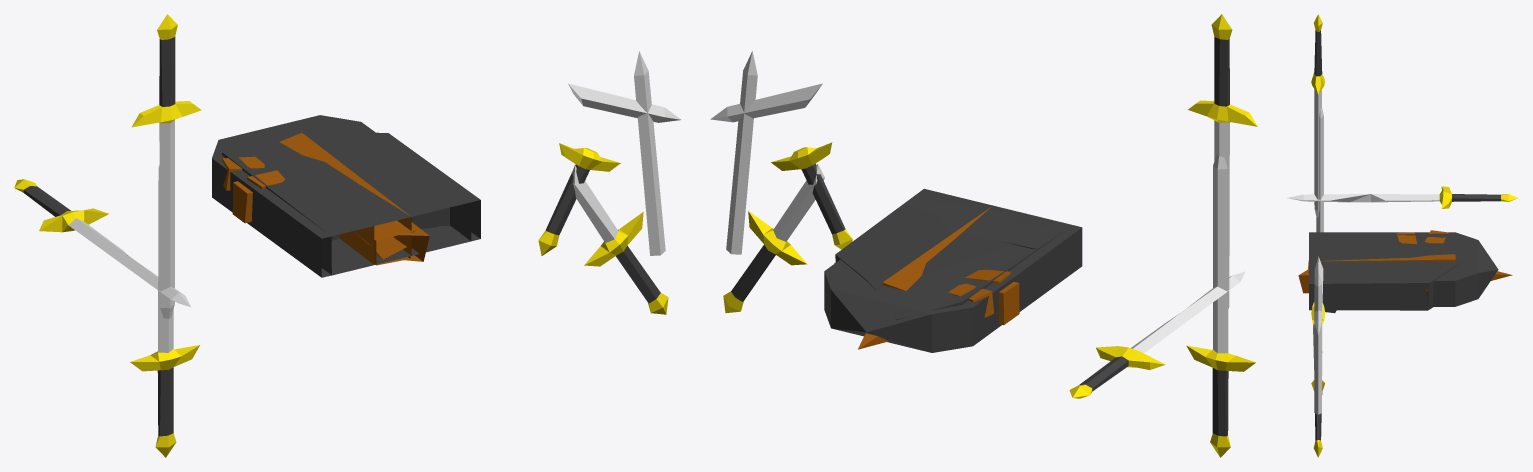
3 renders of one model, left to right at view 1: azimuth 30°, elevation 25°; view 2: azimuth 150°, elevation 25°; view 3: azimuth 270°, elevation 25°, orthographic. The views are drawn at different scales.
Parts seen in each view (by area): view 1: Stone Grave Broke, Stone Grave, Broke Sword 5, Broke Sword 4, Broke Sword 3, Stone Grave Broke.001, Broke Sword 1, Broke Sword 2, Stone Cross, Wood Cross, Wood Cross 2, Wood Cross 1; view 2: Stone Grave, Stone Grave Broke, Broke Sword 1, Broke Sword 3, Broke Sword 4, Stone Grave Broke.001, Broke Sword 5, Broke Sword 2, Stone Cross; view 3: Stone Grave Broke, Stone Grave, Broke Sword 2, Broke Sword 5, Stone Grave Broke.001, Broke Sword 4, Broke Sword 3, Broke Sword 1, Stone Cross, Wood Cross 2.
Boxes of the visible parts, box(x1,y1,x2,y2) form: Stone Grave Broke: box(222, 131, 480, 275); Stone Grave: box(212, 115, 471, 277); Broke Sword 5: box(132, 14, 201, 319); Broke Sword 4: box(538, 51, 665, 255); Broke Sword 3: box(568, 83, 681, 314); Stone Grave Broke.001: box(297, 186, 480, 275); Broke Sword 1: box(130, 164, 199, 457); Broke Sword 2: box(14, 179, 190, 306); Stone Cross: box(232, 133, 411, 264); Wood Cross: box(222, 156, 406, 259); Wood Cross 2: box(247, 170, 429, 261); Wood Cross 1: box(374, 220, 414, 265); Stone Grave: box(824, 225, 1082, 352); Stone Grave Broke: box(835, 188, 1071, 345); Broke Sword 1: box(1186, 155, 1255, 457); Broke Sword 3: box(710, 83, 824, 313); Broke Sword 4: box(726, 51, 852, 254); Stone Grave Broke.001: box(905, 189, 1071, 249); Broke Sword 5: box(1188, 14, 1257, 308); Broke Sword 2: box(1069, 271, 1245, 398); Stone Cross: box(882, 206, 1019, 325); Stone Grave Broke: box(1309, 233, 1486, 310); Stone Grave: box(1309, 232, 1498, 306); Broke Sword 2: box(1287, 186, 1517, 208); Broke Sword 5: box(1311, 14, 1325, 217); Stone Grave Broke.001: box(1309, 235, 1362, 313); Broke Sword 4: box(1311, 269, 1325, 414); Broke Sword 3: box(1311, 256, 1324, 457); Broke Sword 1: box(1316, 108, 1323, 232); Stone Cross: box(1320, 254, 1455, 261); Wood Cross 2: box(1298, 232, 1429, 305).
Bounding box in the file's own units: 248 × 191 × 136.
